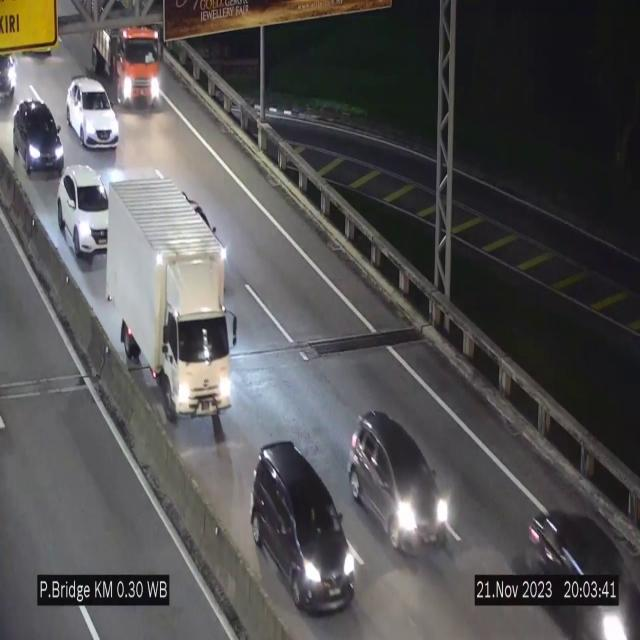Car: (510, 485, 640, 640), (251, 442, 355, 612), (349, 409, 451, 555), (11, 92, 65, 180), (58, 165, 109, 257), (67, 78, 119, 148)
Truck: (105, 174, 242, 428), (91, 25, 160, 107)
